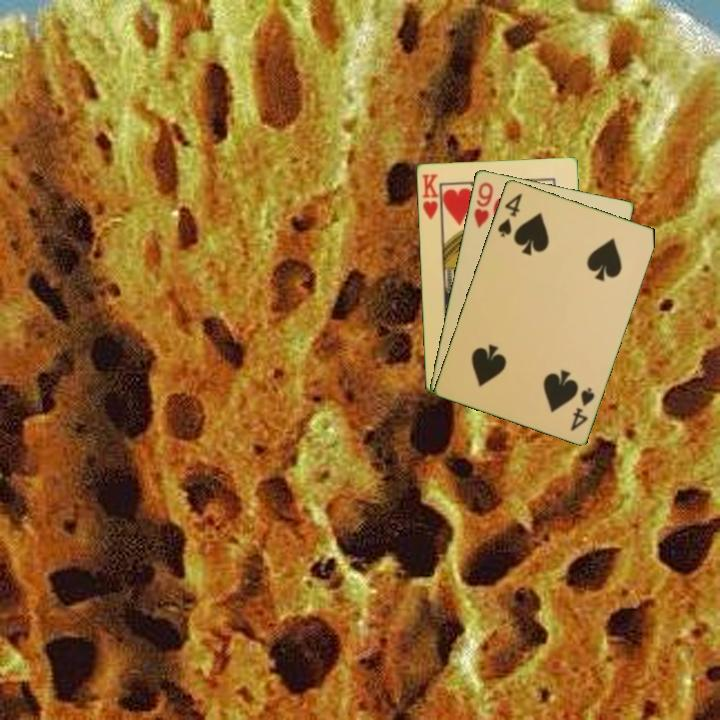4s: (494, 189, 525, 240), (567, 383, 597, 434)
9h: (470, 178, 496, 231)
Kh: (418, 170, 444, 224)
